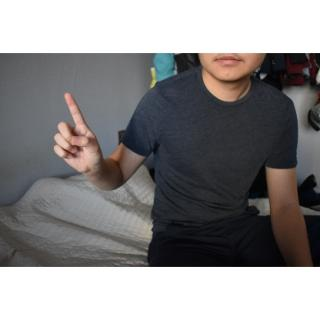BAA: (52, 90, 106, 177)
